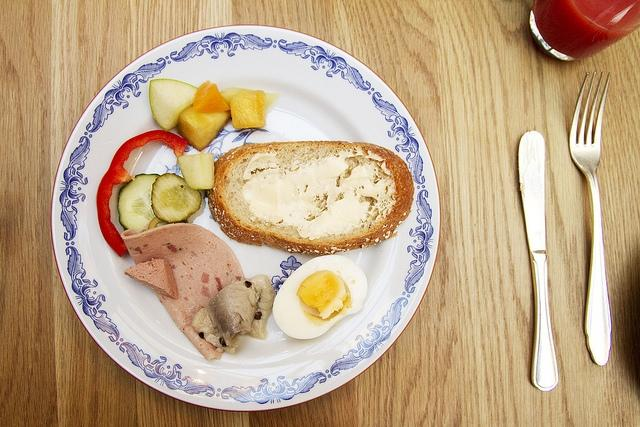bell pepper: (96, 129, 188, 257)
cucumber: (117, 173, 161, 229)
